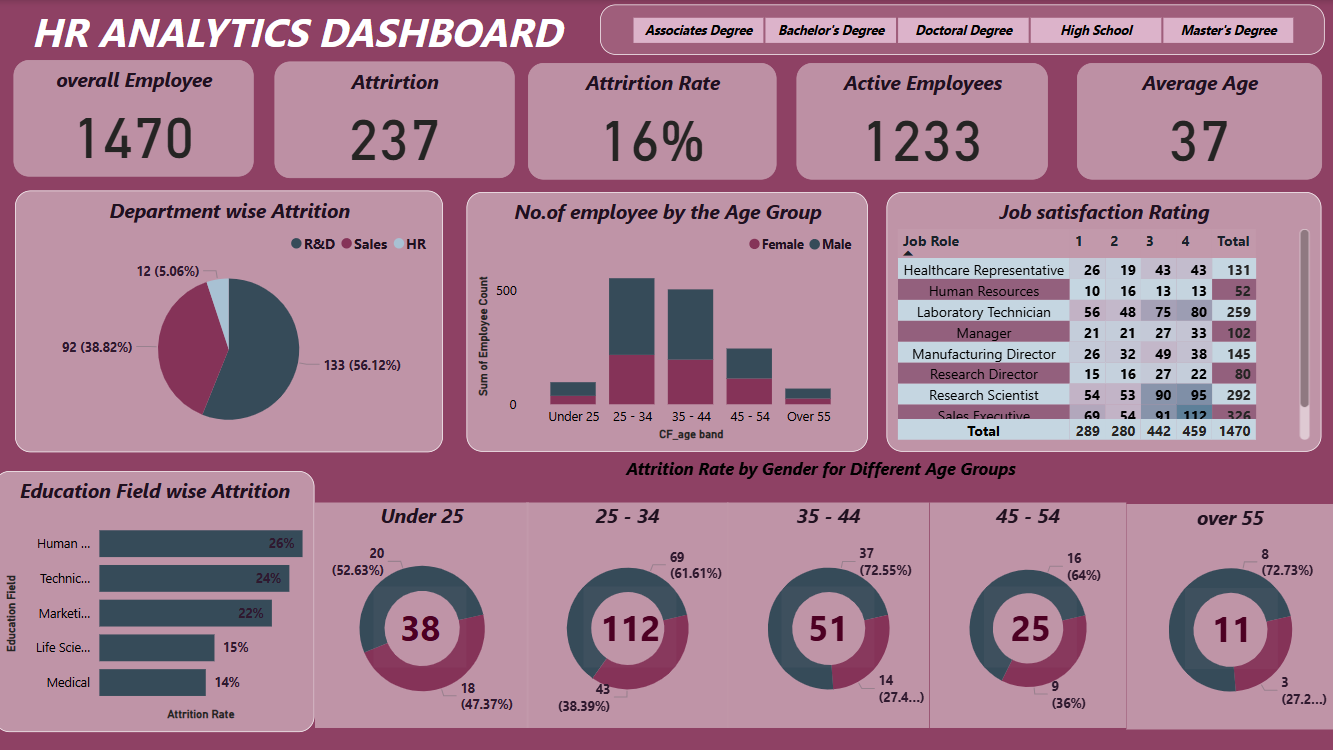

The page's visual inventory and layout, read from the dashboard file:
{"tool":"powerbi","page":{"name":"Page 1","canvas":[1280,720],"ordinal":0},"visuals":[{"type":"card","title":"overall Employee","fields":{"Values":["Sum(HR data.Employee Count)"]},"box":[19.1,57.3,229,111.3],"z":0},{"type":"card","title":"Attrirtion","fields":{"Values":["Sum(HR data.Attrition count )"]},"box":[267.2,58.9,229,111.3],"z":1000},{"type":"card","title":"Attrirtion Rate","fields":{"Values":["HR data.Attrition Rate"]},"box":[510.6,60.4,237,111.3],"z":2000},{"type":"card","title":"Active Employees","fields":{"Values":["HR data.Acitve employees"]},"box":[766.7,60.4,240.2,111.3],"z":3000},{"type":"card","title":"Average Age","fields":{"Values":["Avg(HR data.Age)"]},"box":[1033.9,60.4,233.8,111.3],"z":4000},{"type":"pieChart","title":"Department wise Attrition ","fields":{"Category":["HR data.Department"],"Y":["Sum(HR data.Attrition count )"]},"box":[20.7,181.3,408.8,249.7],"z":5000},{"type":"columnChart","title":"No.of employee by the Age Group","fields":{"Category":["HR data.CF_age band"],"Y":["Sum(HR data.Employee Count)"],"Series":["HR data.Gender"]},"box":[451.7,182.9,383.3,248.1],"z":6000},{"type":"pivotTable","title":"Job satisfaction Rating ","fields":{"Rows":["HR data.Job Role"],"Columns":["HR data.Job Satisfaction"],"Values":["Sum(HR data.Employee Count)"]},"box":[852.6,182.9,415.1,248.1],"z":7000},{"type":"barChart","title":"Education Field wise Attrition","fields":{"Category":["HR data.Education Field"],"Y":["HR data.Attrition Rate"]},"box":[0,449.8,306.1,249.5],"z":8000},{"type":"donutChart","title":"Under 25","fields":{"Category":["HR data.Gender"],"Y":["Sum(HR data.Attrition count )"],"Series":["HR data.CF_age band"]},"box":[306.1,480,204.1,215.4],"z":9000},{"type":"textbox","box":[305.4,431.1,973.5,49.3],"z":10000},{"type":"donutChart","title":"25 - 34","fields":{"Category":["HR data.Gender"],"Y":["Sum(HR data.Attrition count )"],"Series":["HR data.CF_age band"]},"box":[508.4,480,192.8,215.4],"z":11000},{"type":"donutChart","title":"35 - 44","fields":{"Category":["HR data.Gender"],"Y":["Sum(HR data.Attrition count )"],"Series":["HR data.CF_age band"]},"box":[701.5,480.4,192.5,214.7],"z":12000},{"type":"donutChart","title":"45 - 54","fields":{"Category":["HR data.Gender"],"Y":["Sum(HR data.Attrition count )"],"Series":["HR data.CF_age band"]},"box":[893.9,480,187.1,215.4],"z":13000},{"type":"donutChart","title":"over 55","fields":{"Category":["HR data.Gender"],"Y":["Sum(HR data.Attrition count )"],"Series":["HR data.CF_age band"]},"box":[1081,481.9,198.4,215.4],"z":14000},{"type":"card","fields":{"Values":["Sum(HR data.Attrition count )"]},"box":[362.8,565,88.8,77.5],"z":15000},{"type":"card","fields":{"Values":["Sum(HR data.Attrition count )"]},"box":[559.4,557.5,88.8,77.5],"z":16000},{"type":"card","fields":{"Values":["Sum(HR data.Attrition count )"]},"box":[944.9,561.3,88.8,77.5],"z":18000},{"type":"card","fields":{"Values":["Sum(HR data.Attrition count )"]},"box":[1135.8,563.2,88.8,79.4],"z":19000},{"type":"textbox","box":[0,0,644.2,71.6],"z":20000},{"type":"slicer","fields":{"Values":["HR data.Education"]},"box":[579,4.8,691.9,47.7],"z":21000},{"type":"card","fields":{"Values":["Sum(HR data.Attrition count )"]},"box":[754,565,88.8,75.6],"z":21001}]}

Visuals, with their boxes in screenshot pixels (x1, y1, x2, y2), scaled from the page's 1280x720 canvas onto the 1333x750 screenshot:
"overall Employee" card: 20,60,258,176
"Attrirtion" card: 278,61,517,177
"Attrirtion Rate" card: 532,63,779,179
"Active Employees" card: 798,63,1049,179
"Average Age" card: 1077,63,1320,179
"Department wise Attrition " pieChart: 22,189,447,449
"No.of employee by the Age Group" columnChart: 470,191,870,449
"Job satisfaction Rating " pivotTable: 888,191,1320,449
"Education Field wise Attrition" barChart: 0,469,319,728
"Under 25" donutChart: 319,500,531,724
textbox: 318,449,1332,500
"25 - 34" donutChart: 529,500,730,724
"35 - 44" donutChart: 731,500,931,724
"45 - 54" donutChart: 931,500,1126,724
"over 55" donutChart: 1126,502,1332,726
card - Sum(HR data.Attrition count ): 378,589,470,669
card - Sum(HR data.Attrition count ): 583,581,675,661
card - Sum(HR data.Attrition count ): 984,585,1077,665
card - Sum(HR data.Attrition count ): 1183,587,1275,669
textbox: 0,0,671,75
slicer - HR data.Education: 603,5,1324,55
card - Sum(HR data.Attrition count ): 785,589,878,667
